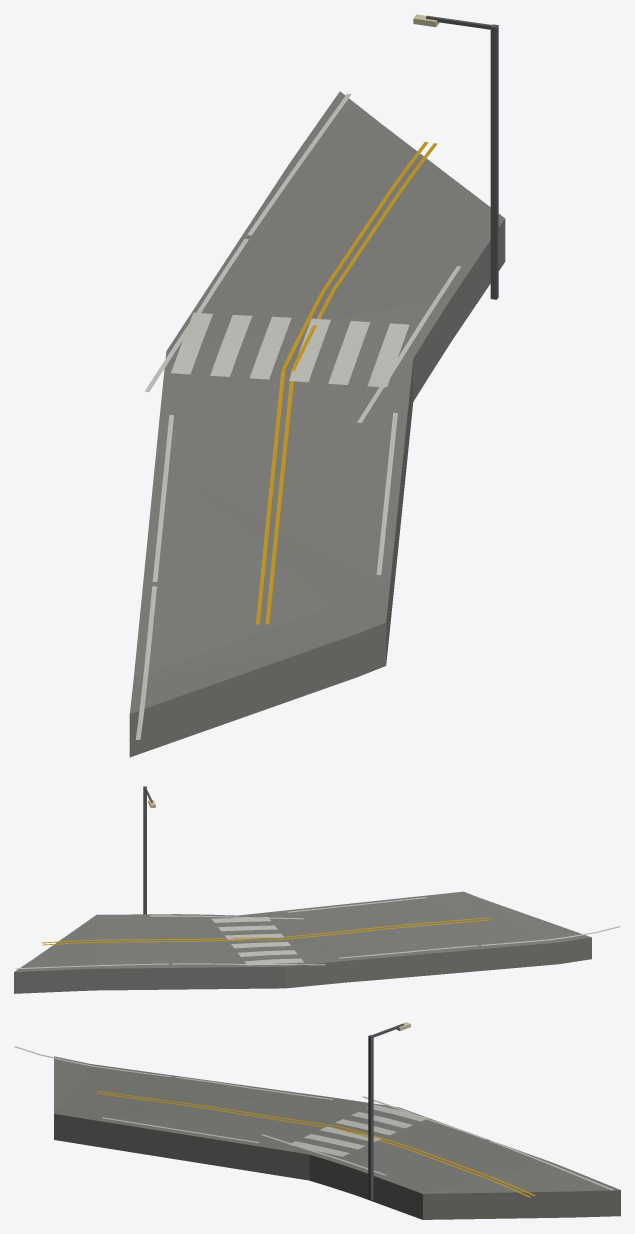
3 views of the same model, one above another, from view 1: azimuth 30°, elevation 25°; view 2: azimuth 150°, elevation 25°; view 3: azimuth 270°, elevation 25° (orthographic). The views are drawn at different scales.
Bounding box in the file's own units: 21.08 × 10.6 × 25.29.
